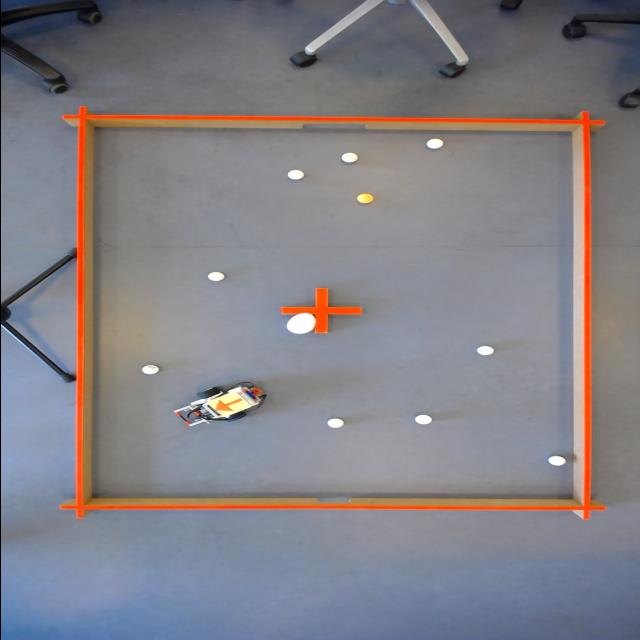cross: (277, 285, 362, 334)
egg: (282, 312, 316, 336)
orange_ball: (354, 192, 378, 204)
robot: (199, 389, 252, 420)
white_ball: (336, 150, 360, 164), (322, 416, 346, 430), (472, 344, 496, 358), (409, 414, 434, 426), (283, 168, 306, 180), (202, 270, 225, 282), (422, 137, 445, 149), (138, 364, 160, 376), (542, 456, 566, 466)
